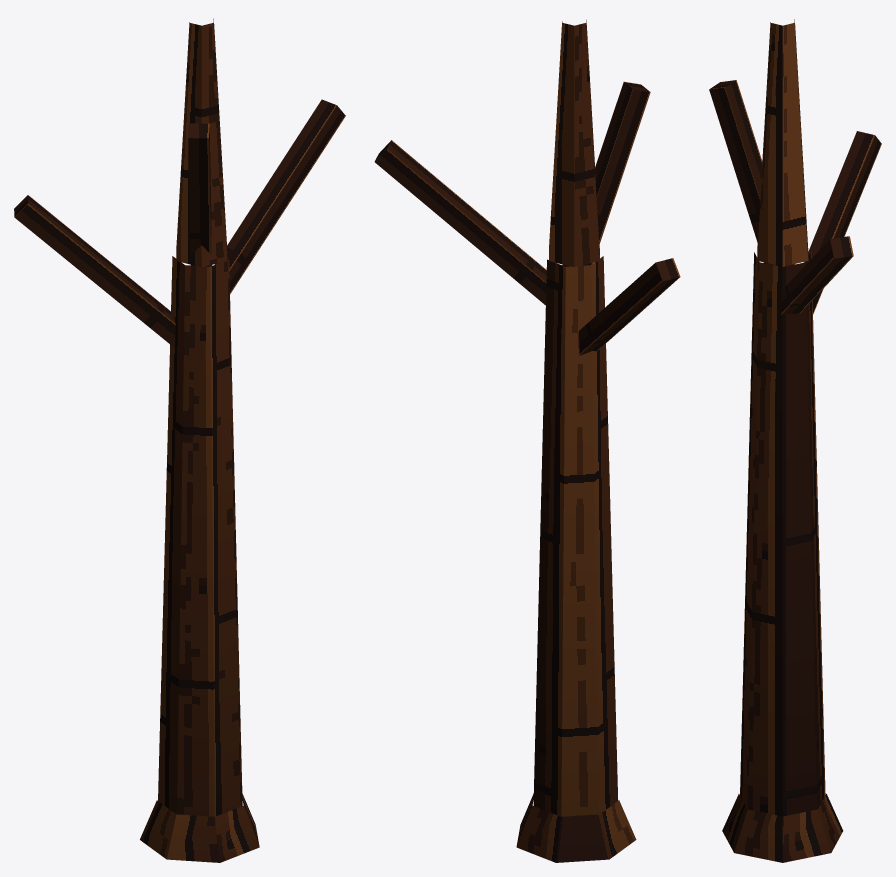
The model's file is oak_1_trunk.glb.
3 views of the same model, side by side, from view 1: azimuth 30°, elevation 25°; view 2: azimuth 150°, elevation 25°; view 3: azimuth 270°, elevation 25° (orthographic).
Parts seen in each view (by area): view 1: oak_1_trunk; view 2: oak_1_trunk; view 3: oak_1_trunk.
Boxes of the visible parts, left/top/right/bottom form: oak_1_trunk: left=14, top=18, right=345, bottom=862; oak_1_trunk: left=374, top=19, right=680, bottom=862; oak_1_trunk: left=709, top=19, right=881, bottom=862.
Size of the model in its own units: 2.11 by 5.22 by 1.
Materials: 1 (1 with a texture image).
